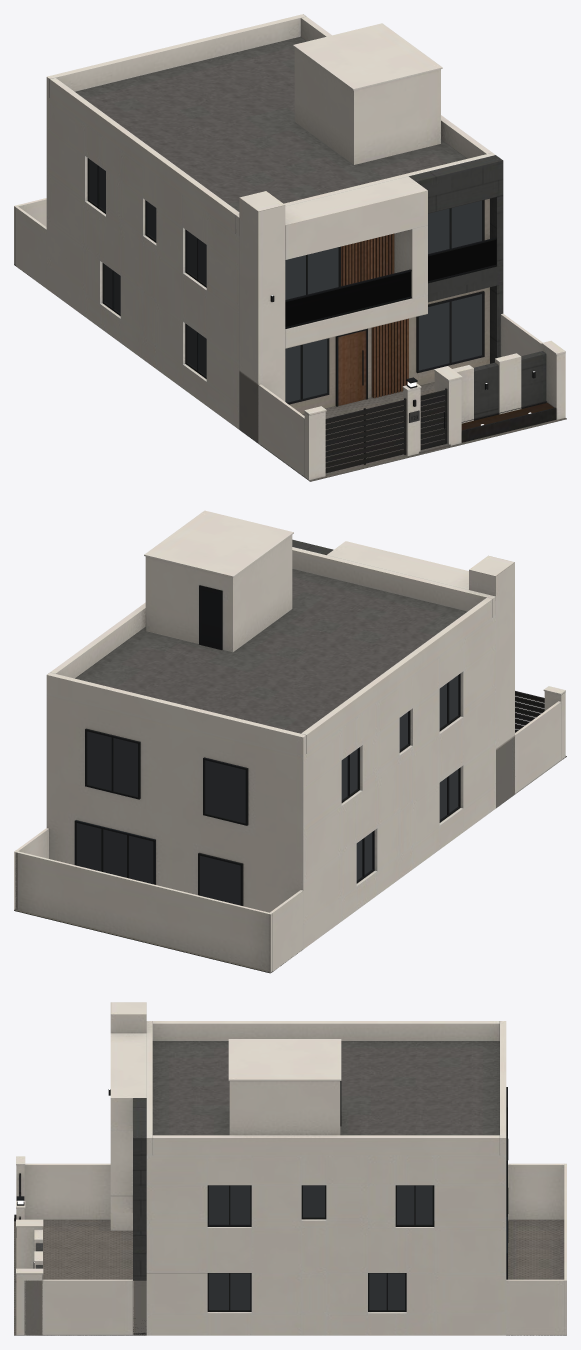
Rendered from house_B.glb.
3 views of the same model, one above another, from view 1: azimuth 30°, elevation 25°; view 2: azimuth 150°, elevation 25°; view 3: azimuth 270°, elevation 25° (orthographic). The views are drawn at different scales.
Parts seen in each view (by area): view 1: body, glass; view 2: body, glass; view 3: body, glass.
Part boxes in pixels (x1,y1,x2,y2): body: (14,14,566,481); glass: (90,160,482,402); body: (14,510,566,973); glass: (77,675,458,905); body: (14,1002,566,1335); glass: (209,1185,432,1309).
Bounding box in the file's own units: 10 × 10.06 × 20.
3 materials, 1 textured.
